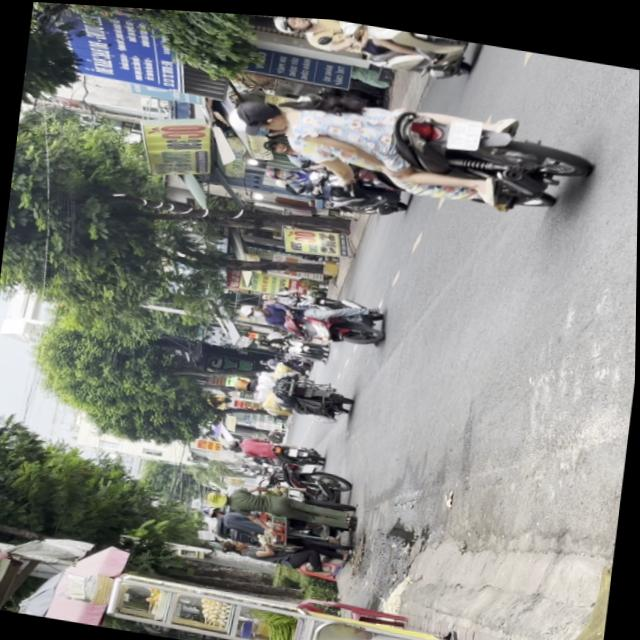helmet: (224, 107, 280, 138), (269, 13, 310, 31)
licenseplate: (218, 67, 596, 220), (265, 12, 483, 79)
motorcyclist: (232, 90, 292, 132)
nohelmet: (445, 112, 480, 146)
